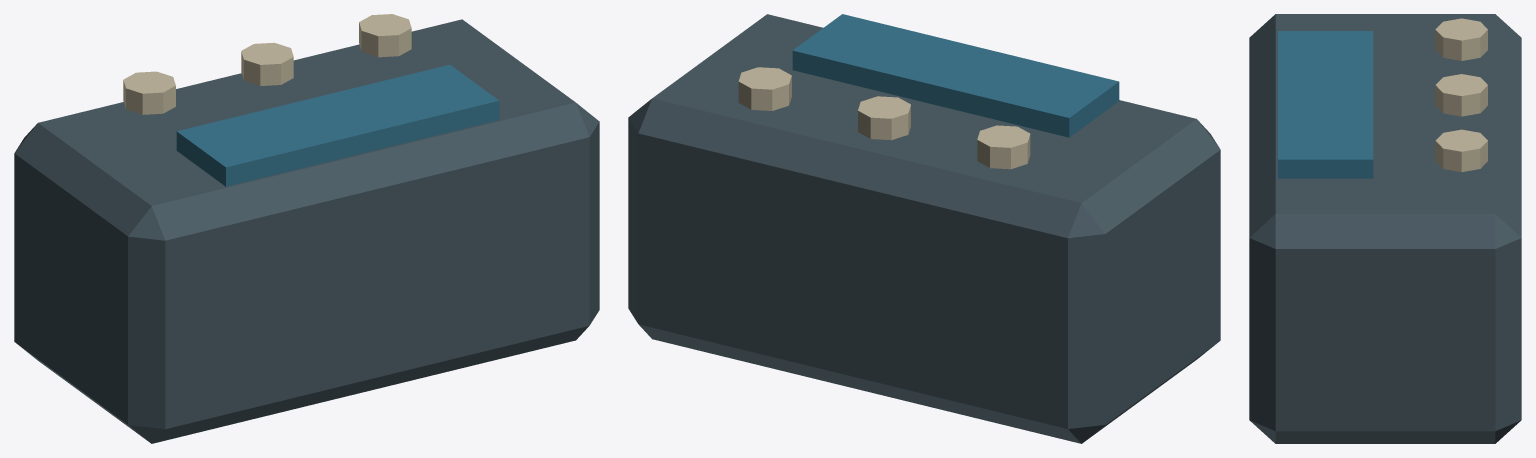
The model's file is set_hat_display.glb.
3 renders of one model, left to right at view 1: azimuth 30°, elevation 25°; view 2: azimuth 150°, elevation 25°; view 3: azimuth 270°, elevation 25°, orthographic. The views are drawn at different scales.
Visible parts, largest first — view 1: set_hat_display; view 2: set_hat_display; view 3: set_hat_display.
Boxes of the visible parts, <box> form: set_hat_display: <box>14,14,599,443</box>; set_hat_display: <box>628,14,1220,443</box>; set_hat_display: <box>1249,14,1521,443</box>.
Size of the model in its own units: 0.28 by 0.152 by 0.145.
